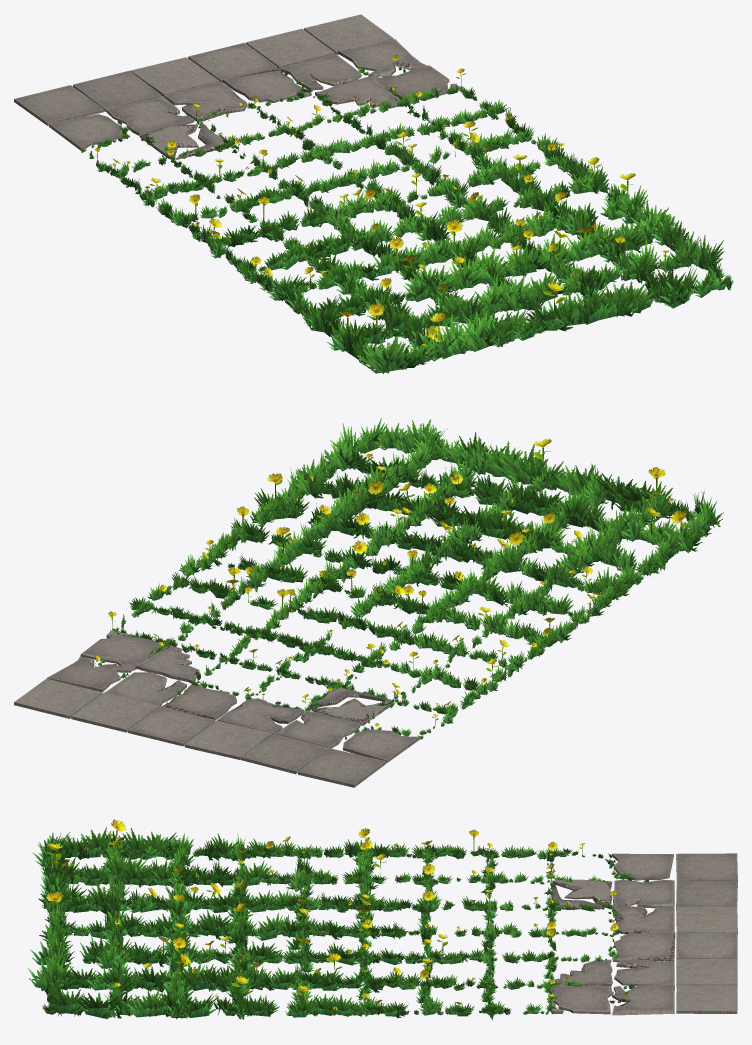
File: grid_grass_flowers.glb
The picture shows the model from 3 angles, top to bottom: view 1: azimuth 30°, elevation 25°; view 2: azimuth 150°, elevation 25°; view 3: azimuth 270°, elevation 25°; orthographic projection. The views are drawn at different scales.
Parts seen in each view (by area): view 1: GrassGrid, CrackedPavement, PlantGrid; view 2: GrassGrid, CrackedPavement, PlantGrid; view 3: GrassGrid, CrackedPavement, PlantGrid.
Boxes of the visible parts, bbox=[...] form: GrassGrid: bbox=[81, 66, 733, 373]; CrackedPavement: bbox=[14, 14, 460, 159]; PlantGrid: bbox=[94, 54, 668, 348]; GrassGrid: bbox=[98, 417, 723, 739]; CrackedPavement: bbox=[14, 630, 419, 787]; PlantGrid: bbox=[93, 438, 687, 729]; GrassGrid: bbox=[28, 827, 663, 1019]; CrackedPavement: bbox=[550, 853, 737, 1015]; PlantGrid: bbox=[46, 819, 632, 1013].
Size of the model in its own units: 141 by 18.22 by 233.
3 materials, 3 textured.
